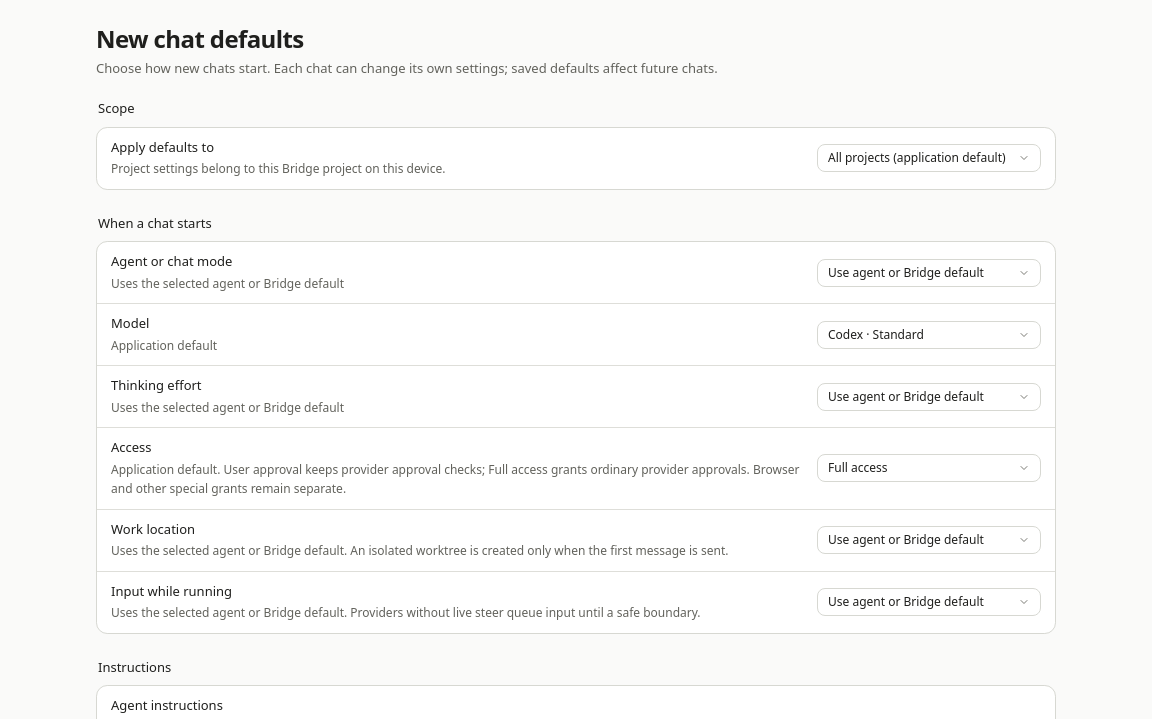
saves a project override with the acknowledged project revision and leaves inherited fields absent
The image size is (1152, 719).
Click the dropdown labelled "All projects (application default)" at [929, 158], box x1=817 y1=144 x2=1041 y2=172
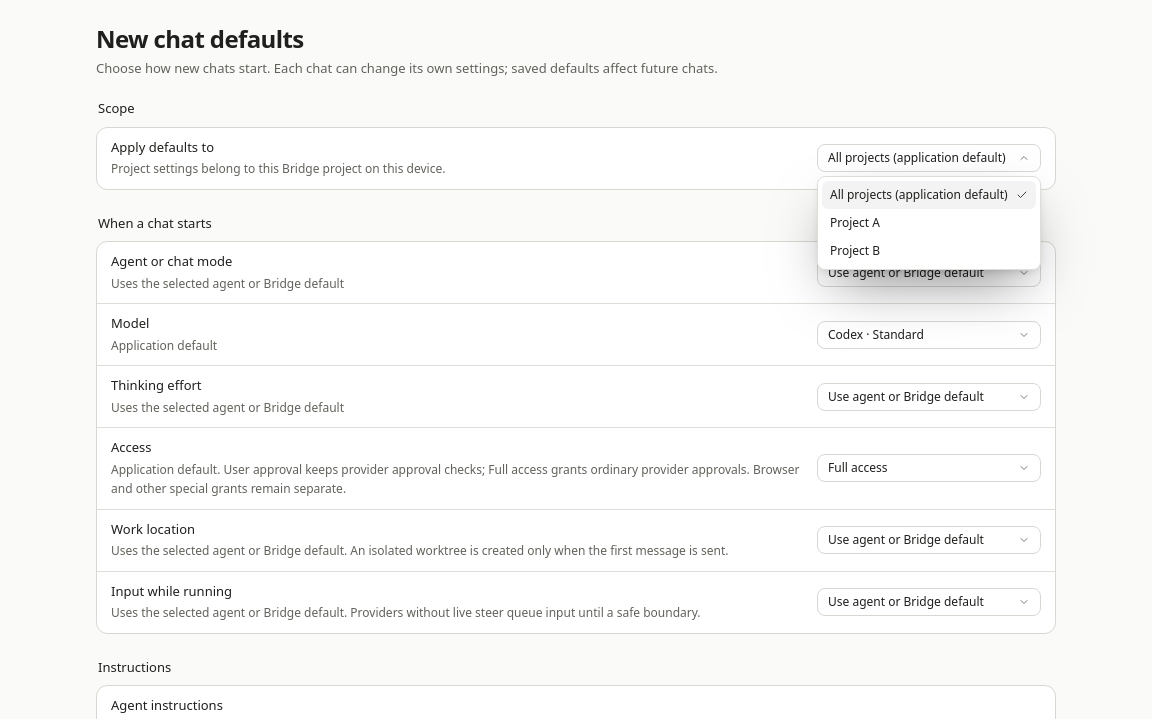
Now the option "Project A" is shown
Click the option "Project A" at [855, 222], box x1=830 y1=214 x2=880 y2=231
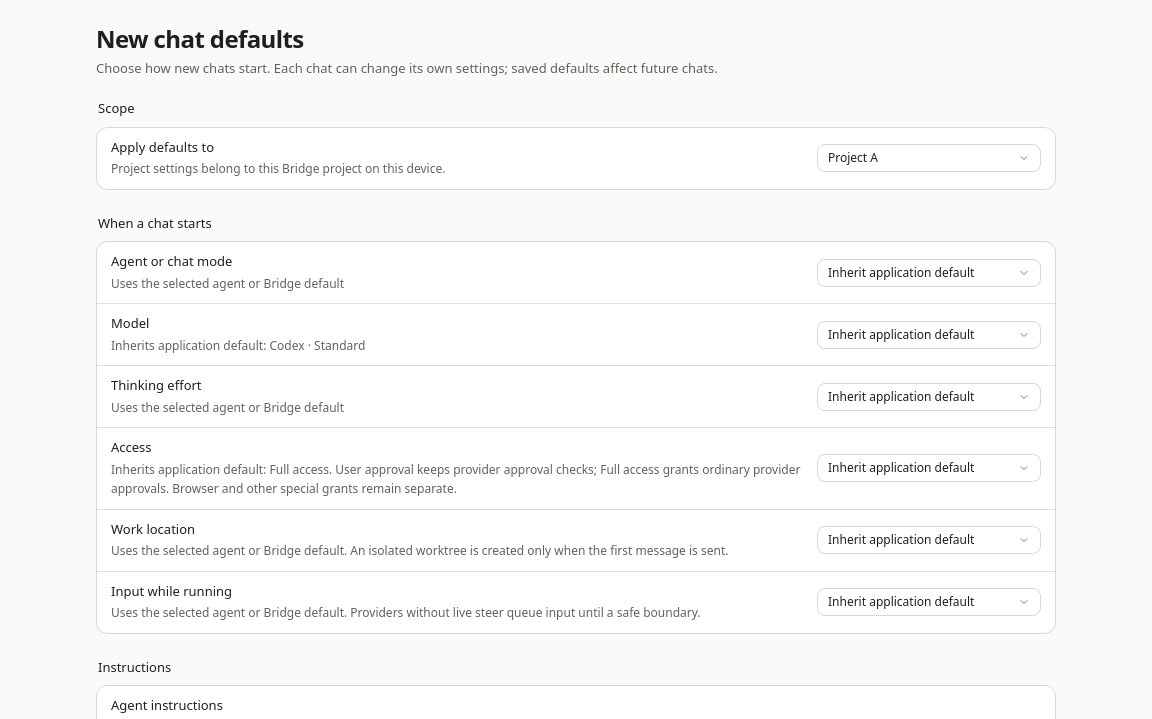
Now the text "Inherits application default" is shown, box x1=111 y1=337 x2=365 y2=354
Click the dropdown named "Default chat access" at [929, 468], box x1=817 y1=454 x2=1041 y2=482
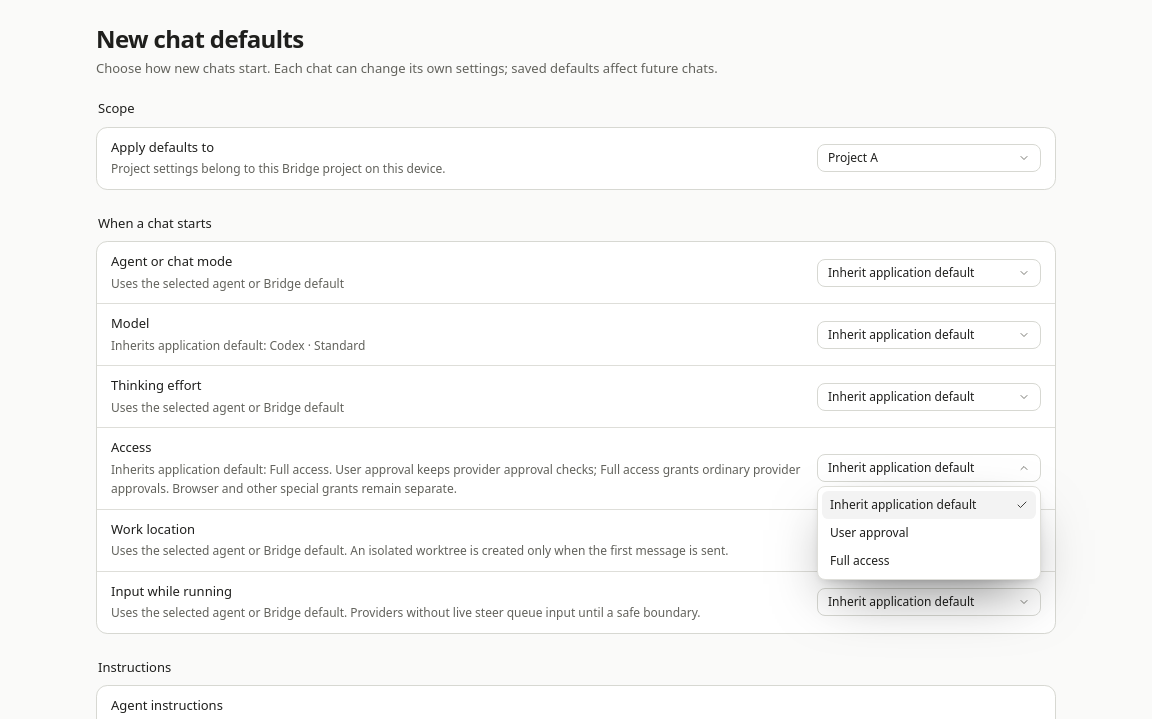
Now the option "User approval" is shown
Click the option "User approval" at [869, 532], box x1=830 y1=524 x2=908 y2=541
(page scrolled)
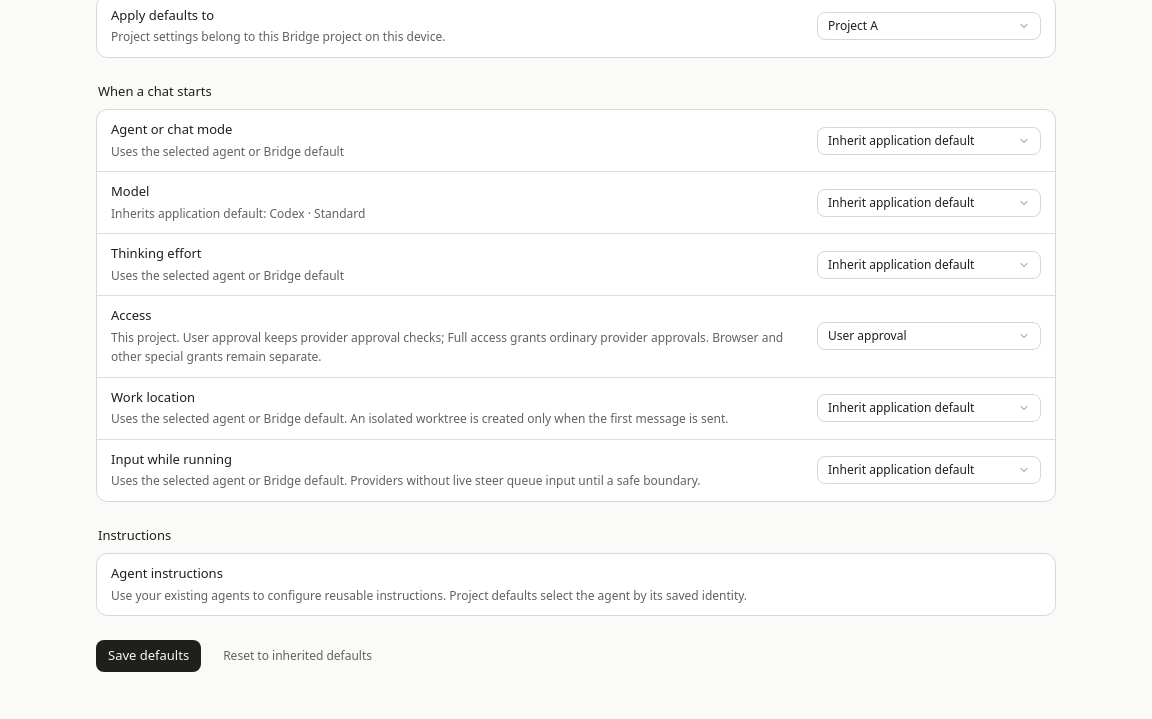
Click the button "Save defaults" at [149, 656], box x1=96 y1=640 x2=201 y2=672
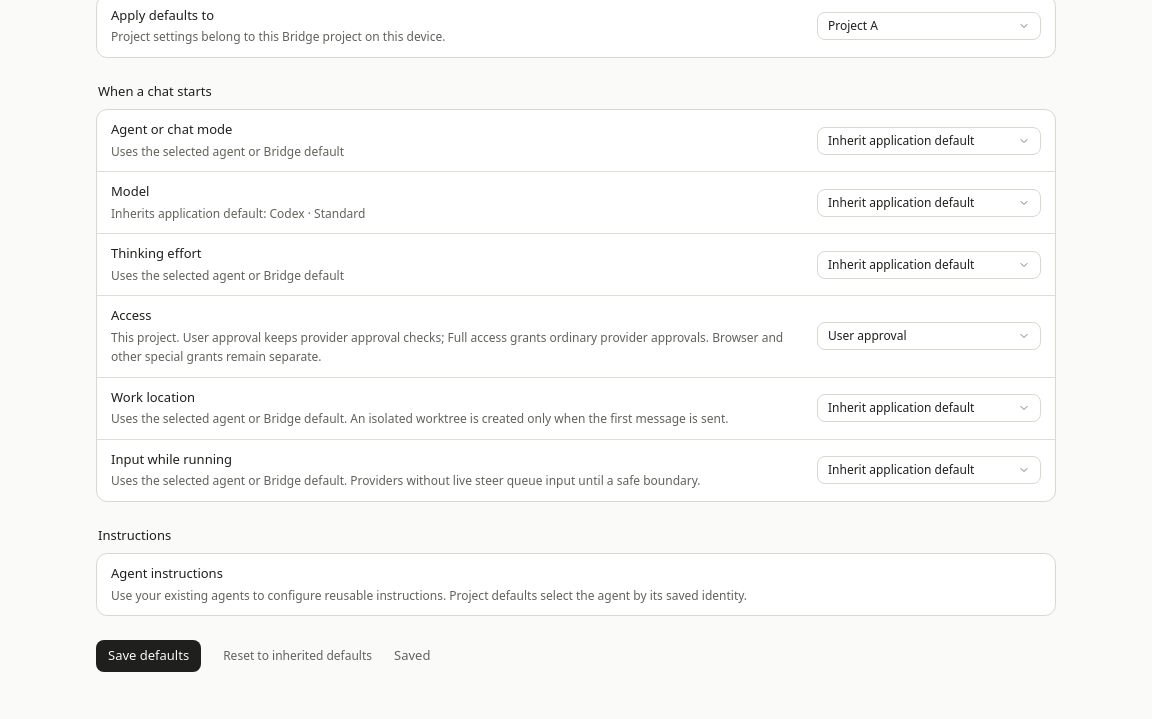
Now the message "Saved" is shown, box x1=394 y1=646 x2=430 y2=666
